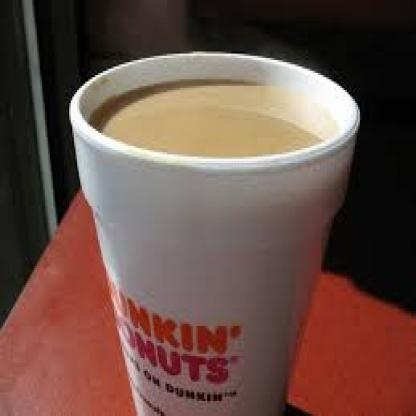trash: (70, 53, 358, 415)
